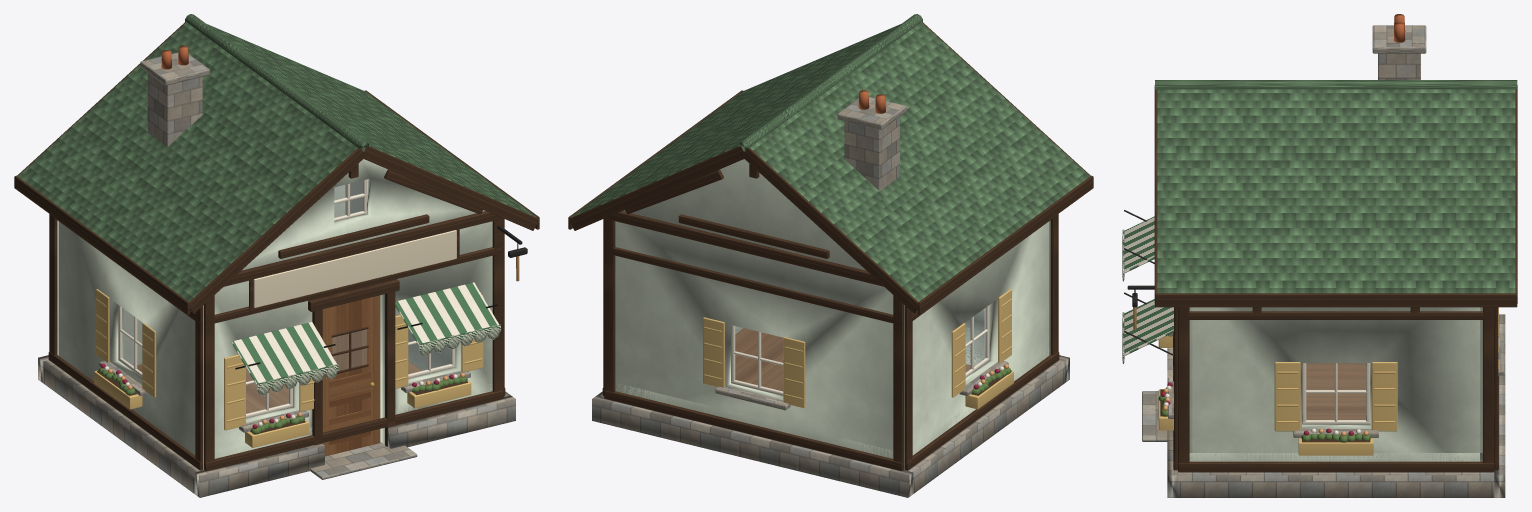
Rendered from building_homegoods.glb.
The picture shows the model from 3 angles, left to right: view 1: azimuth 30°, elevation 25°; view 2: azimuth 150°, elevation 25°; view 3: azimuth 270°, elevation 25°; orthographic projection. The views are drawn at different scales.
Visible parts, largest first — view 1: roof, wall_front, wall_left, door, base, wall_front_low, wall_back, wall_right; view 2: wall_back, roof, wall_left, wall_back_low, base, wall_front, wall_left_low; view 3: roof, wall_right, wall_right_low, wall_front, base, wall_back, wall_back_low, wall_front_low.
Part boxes in pixels (x1,y1,x2,y2): roof: [14, 14, 539, 314]; wall_front: [194, 159, 527, 497]; wall_left: [43, 214, 203, 493]; door: [322, 295, 380, 456]; base: [133, 361, 421, 479]; wall_front_low: [195, 384, 515, 496]; wall_back: [38, 185, 345, 382]; wall_right: [345, 180, 505, 396]; wall_back: [592, 159, 913, 497]; roof: [568, 14, 1093, 314]; wall_left: [904, 214, 1064, 493]; wall_back_low: [592, 383, 912, 496]; base: [735, 328, 974, 391]; wall_front: [965, 220, 1069, 382]; wall_left_low: [904, 347, 1064, 462]; roof: [1154, 14, 1517, 307]; wall_right: [1178, 307, 1494, 497]; wall_right_low: [1178, 453, 1494, 496]; wall_front: [1122, 210, 1192, 497]; base: [1142, 363, 1365, 441]; wall_back: [1480, 307, 1505, 497]; wall_back_low: [1480, 320, 1505, 496]; wall_front_low: [1167, 430, 1192, 495].
Size of the model in its own units: 5.91 by 5.57 by 5.5.
Materials: 20 (7 with a texture image).
